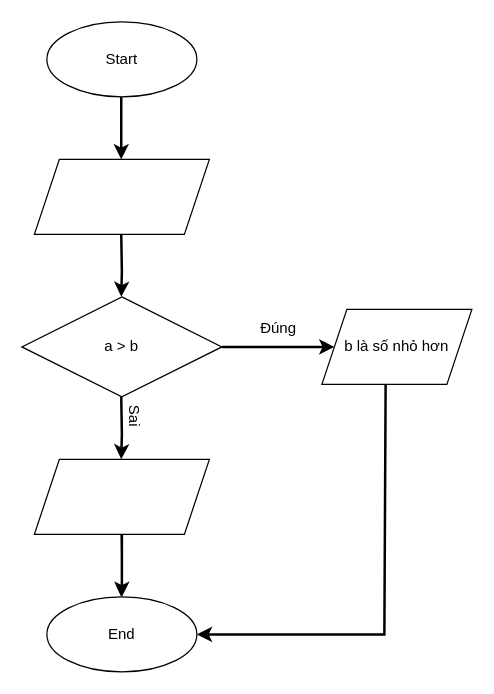
Some shapes in this 494 by 694 pixel diagram are drawn without their labels. Each missing label, with the centre of its shape:
a là số nhỏ hơn: the point at 121,496
Nhập a , b: the point at 121,196
